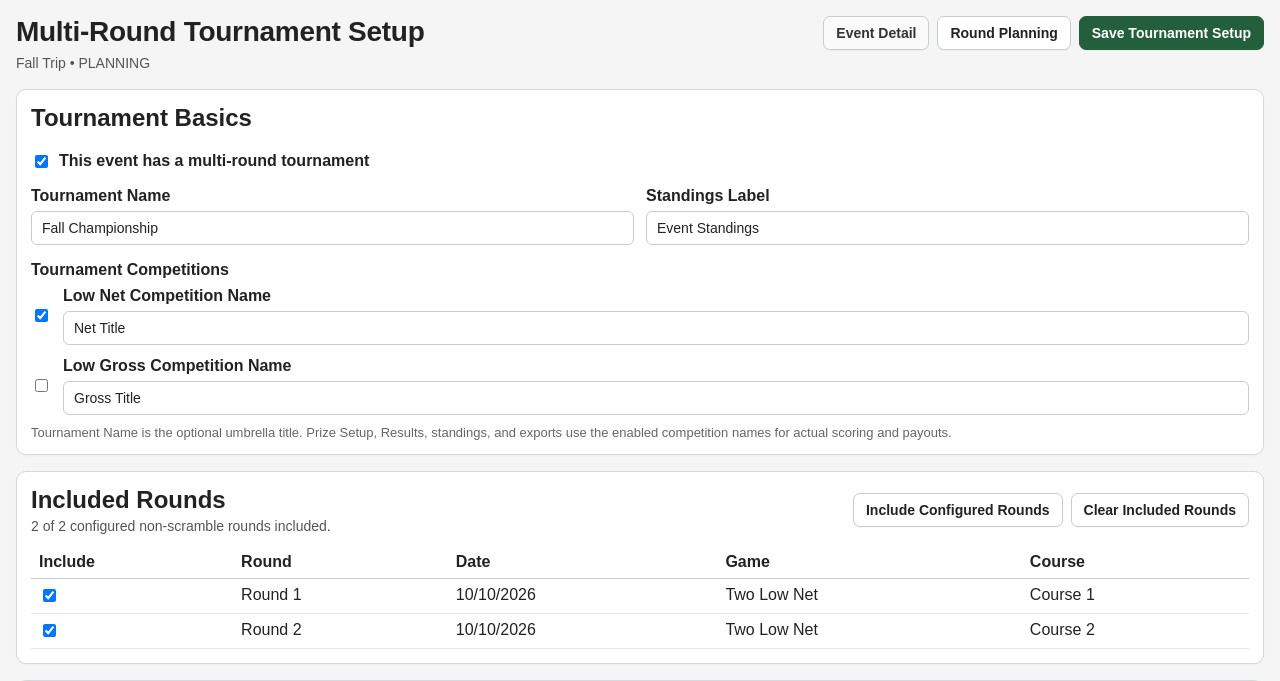
Test: Trip tournament setup page characterization (before extraction) › requires a competition to remain enabled
The width and height of the screenshot is (1280, 681).
Expected: the heading "Tournament Basics" is shown, [31,104,252,131]
What coordinates should you click on to do the following:
click the checkbox named "Enable Low Net tournament competition"
I would click on:
 (42, 316)
Its box is [35,310,48,322].
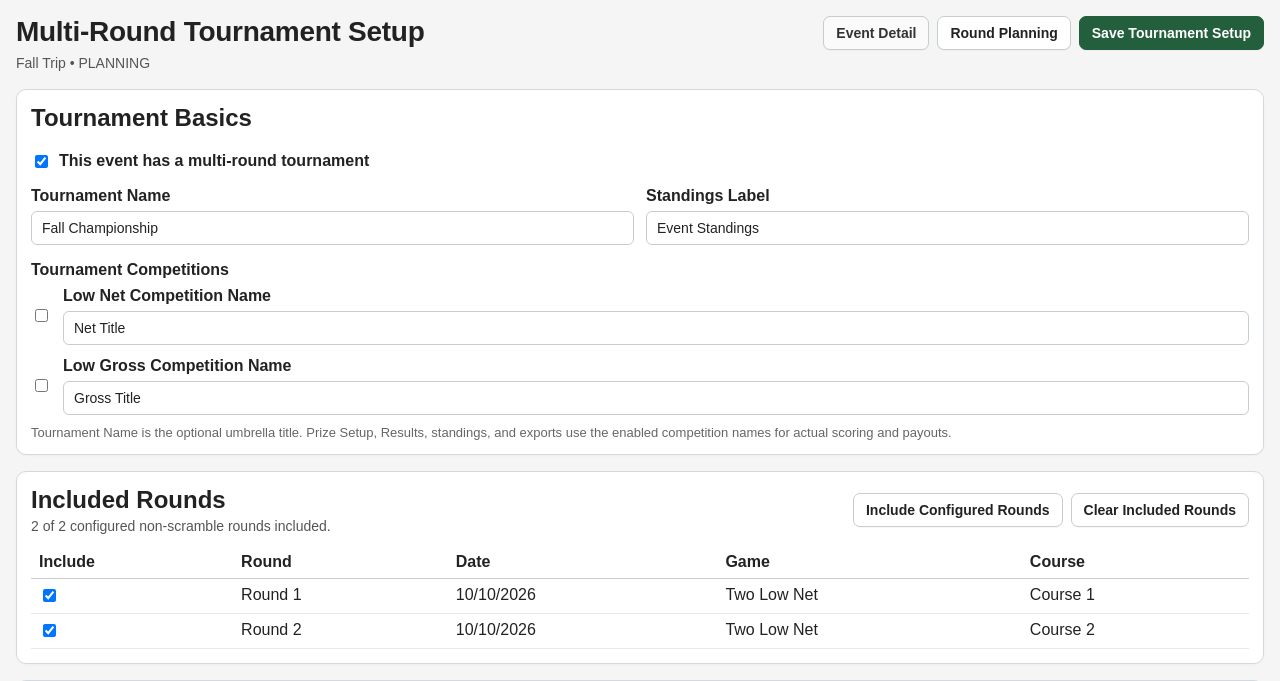
What coordinates should you click on to do the following:
click the button "Save Tournament Setup" in the row of "Multi-Round Tournament Setup"
I would click on:
 (1171, 33)
Its box is [1079,16,1264,50].
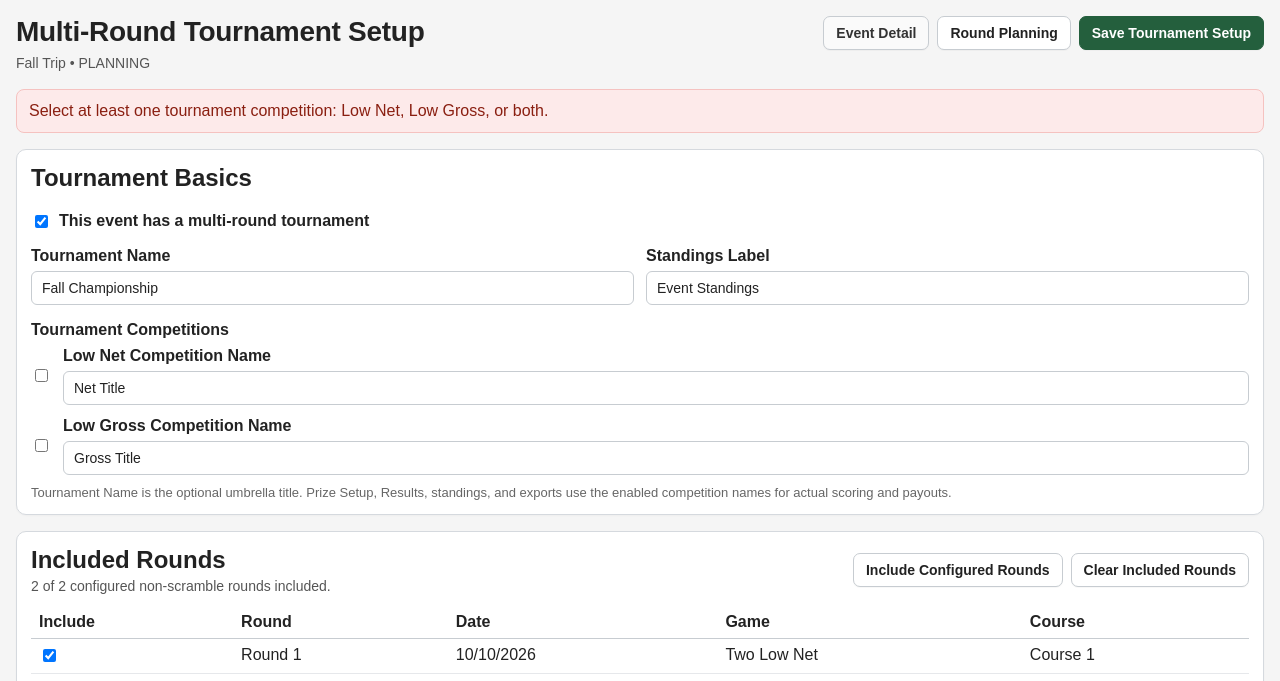
Expected: the text "Select at least one tournament competition: Low Net, Low Gross, or both." is shown, [16,89,1264,133]
